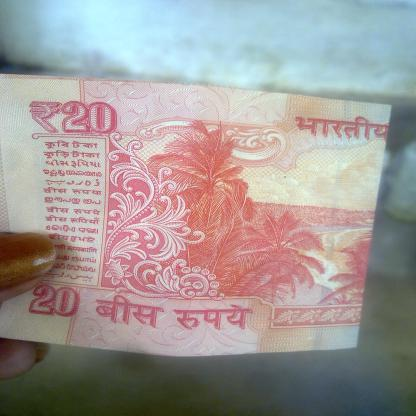Old20Back: (0, 79, 373, 344)
